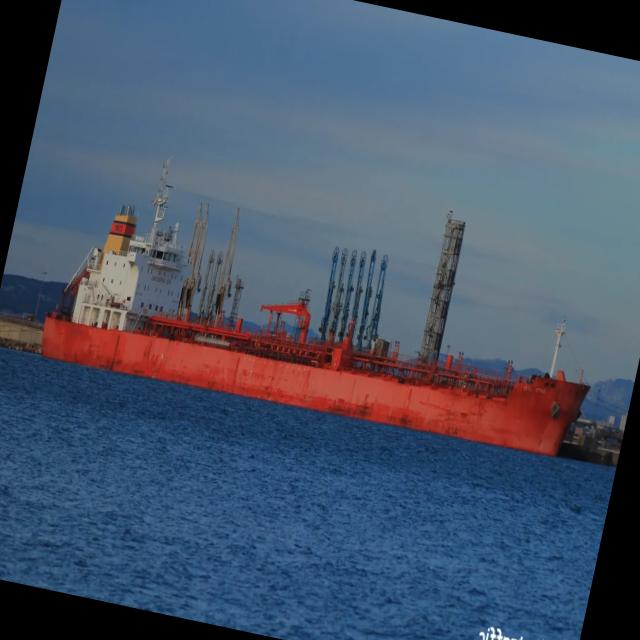Tanker: (42, 160, 589, 455)
